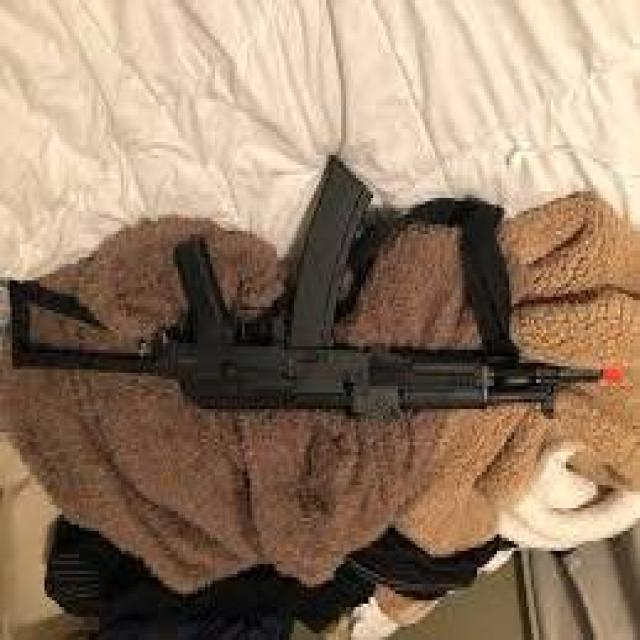weapon: (7, 152, 627, 426)
